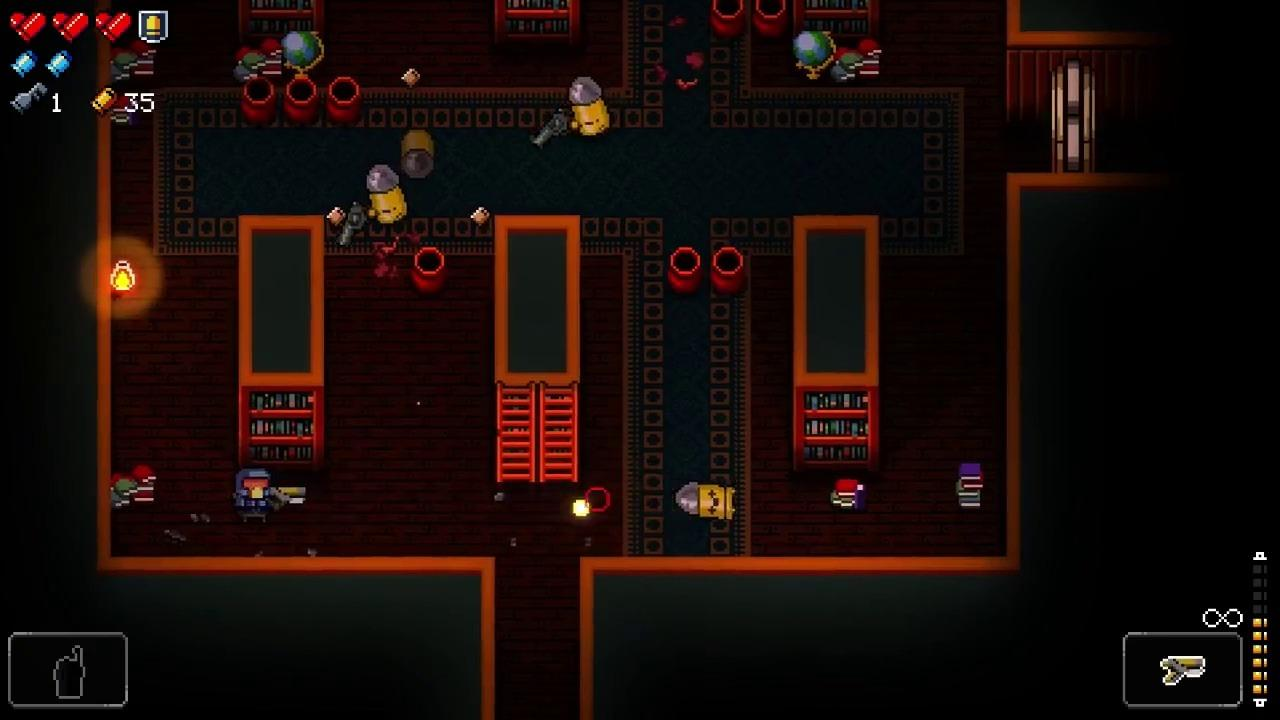bullet_kin: (568, 76, 611, 139), (367, 164, 408, 225)
dead_bullet_kin: (674, 482, 736, 520), (402, 130, 433, 178)
locked_door: (1050, 57, 1095, 174)
player: (234, 467, 271, 526)
